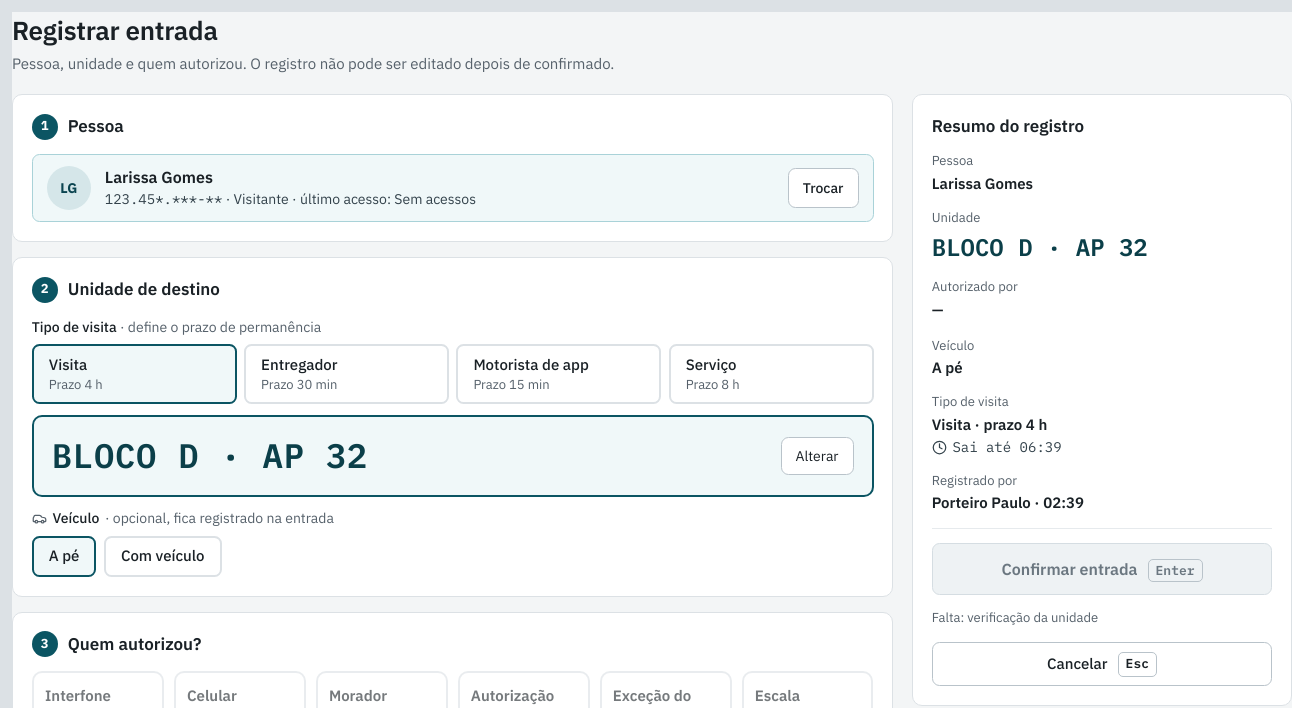
Test: EntradaPage: veículo › com veículo e sem placa válida, a confirmação aponta a placa como o que falta
Click the radio button labelled "Com veículo". click: [163, 556]
box: [104, 536, 222, 577]
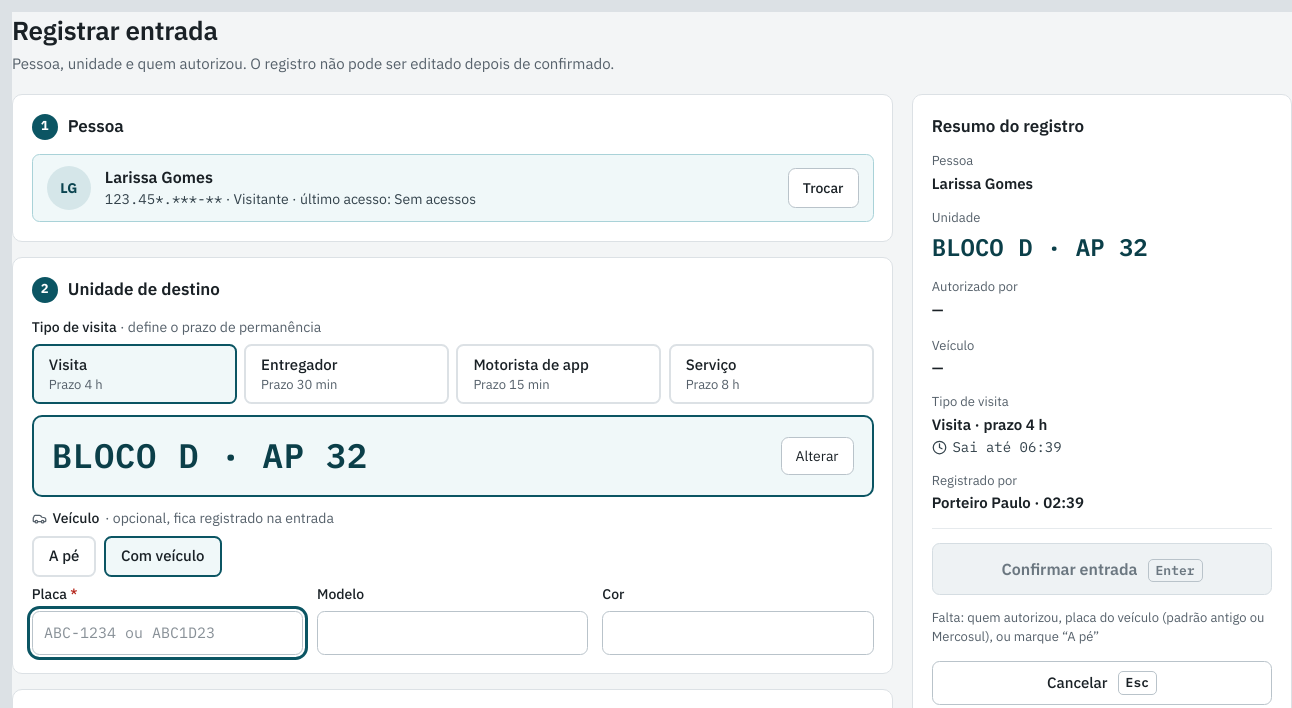
Result: the text "placa do veículo (padrão antigo ou Mercosul)" is shown at [932, 609, 1264, 645]
